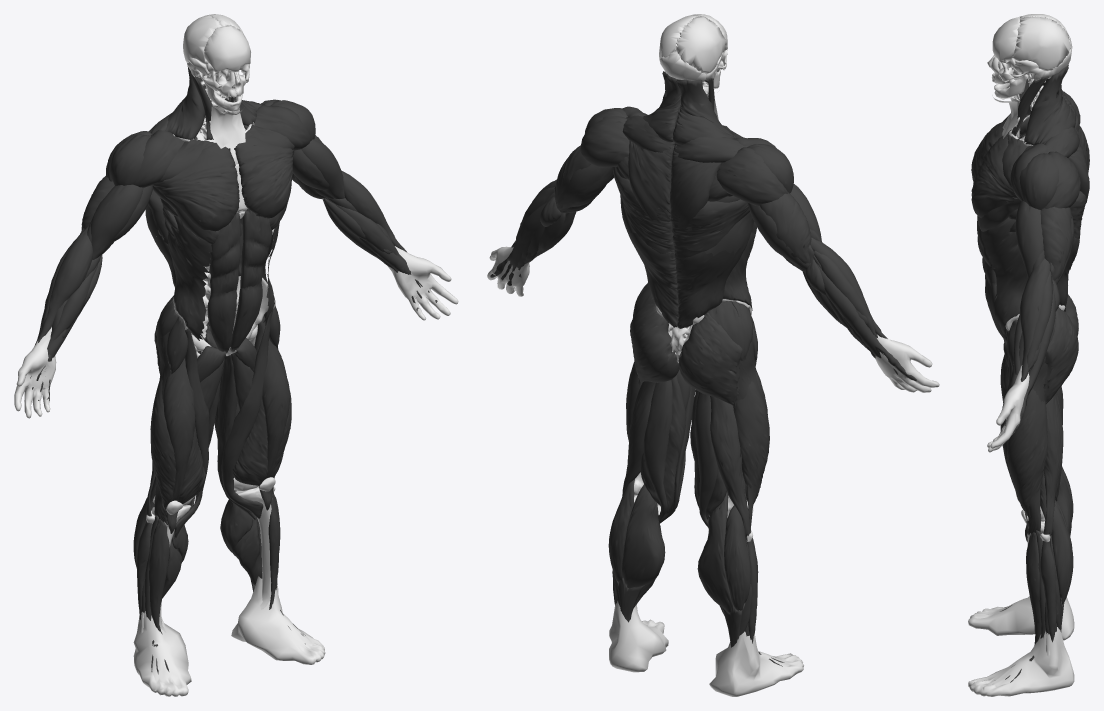
Rendered from corpo-3.glb.
3 views of the same model, side by side, from view 1: azimuth 30°, elevation 25°; view 2: azimuth 150°, elevation 25°; view 3: azimuth 270°, elevation 25° (orthographic).
Parts seen in each view (by area): view 1: pele, deco, peito_medial, fundo, quad_reto_femoral, antebraco_flexores, adutores, obliquos, abdomen_supra, biceps_longa, antebraco_braquiorradial, ombro_frontal (+13 smaller); view 2: pele, panturrilha_gastro, isquio_semitendineo, gluteo_maximo, dorsal_inferior, antebraco_extensores, dorsal_superior, trapezio_inferior, fundo, ombro_posterior, isquio_biceps_femoral, trapezio_superior (+11 smaller); view 3: pele, fundo, deco, quad_vasto_lateral, obliquos, peito_medial, trapezio_superior, gluteo_maximo, panturrilha_gastro, isquio_biceps_femoral, antebraco_extensores, triceps_lateral (+19 smaller).
Boxes of the visible parts, <box> form: pele: <box>14,100,458,696</box>; deco: <box>136,69,305,674</box>; peito_medial: <box>152,137,294,231</box>; fundo: <box>153,14,323,505</box>; quad_reto_femoral: <box>163,315,289,533</box>; antebraco_flexores: <box>30,197,437,400</box>; adutores: <box>175,338,256,539</box>; obliquos: <box>167,215,279,340</box>; abdomen_supra: <box>209,209,271,293</box>; biceps_longa: <box>90,138,344,259</box>; antebraco_braquiorradial: <box>38,171,406,342</box>; ombro_frontal: <box>132,104,310,187</box>; pele: <box>487,86,939,696</box>; panturrilha_gastro: <box>608,479,750,612</box>; isquio_semitendineo: <box>640,375,726,527</box>; gluteo_maximo: <box>630,301,742,405</box>; dorsal_inferior: <box>625,225,746,328</box>; antebraco_extensores: <box>490,187,916,381</box>; dorsal_superior: <box>613,167,754,256</box>; trapezio_inferior: <box>628,141,721,228</box>; fundo: <box>634,14,751,517</box>; ombro_posterior: <box>580,116,788,205</box>; isquio_biceps_femoral: <box>622,381,750,537</box>; trapezio_superior: <box>642,71,734,144</box>; pele: <box>968,94,1074,696</box>; fundo: <box>987,14,1072,521</box>; deco: <box>1000,76,1064,682</box>; quad_vasto_lateral: <box>1007,389,1047,533</box>; obliquos: <box>982,217,1027,336</box>; peito_medial: <box>971,120,1022,218</box>; trapezio_superior: <box>1024,65,1076,145</box>; gluteo_maximo: <box>1043,294,1078,403</box>; panturrilha_gastro: <box>1051,466,1073,604</box>; isquio_biceps_femoral: <box>1040,386,1063,536</box>; antebraco_extensores: <box>1012,271,1059,433</box>; triceps_lateral: <box>1040,206,1072,280</box>.
Bounding box in the file's own units: 1.19 × 1.65 × 0.2829.
Materials: 1 (1 with a texture image).
